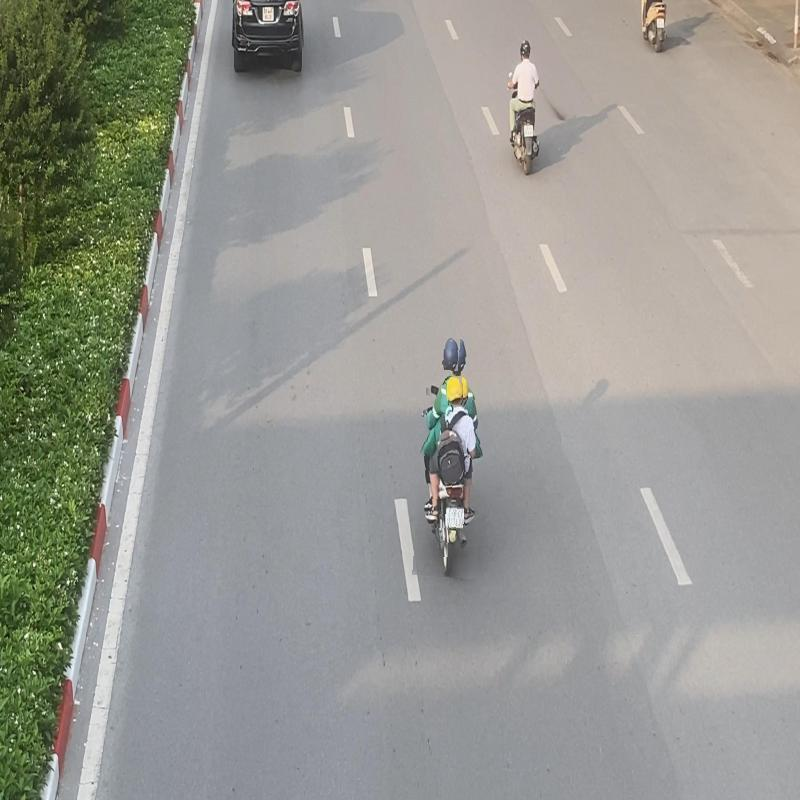helmet: (442, 338, 460, 372), (446, 376, 464, 405)
licenseplate: (449, 506, 465, 530)
motorcyclist: (416, 335, 489, 579)
